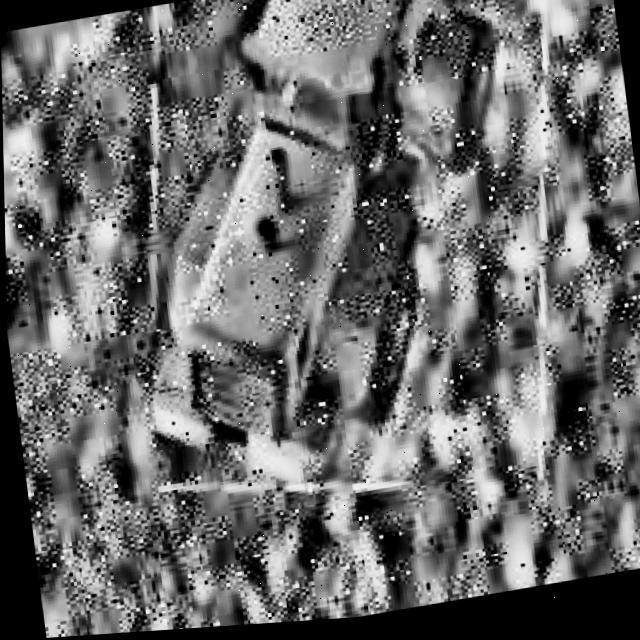buldozerpayloadergrader: (87, 0, 618, 528)
